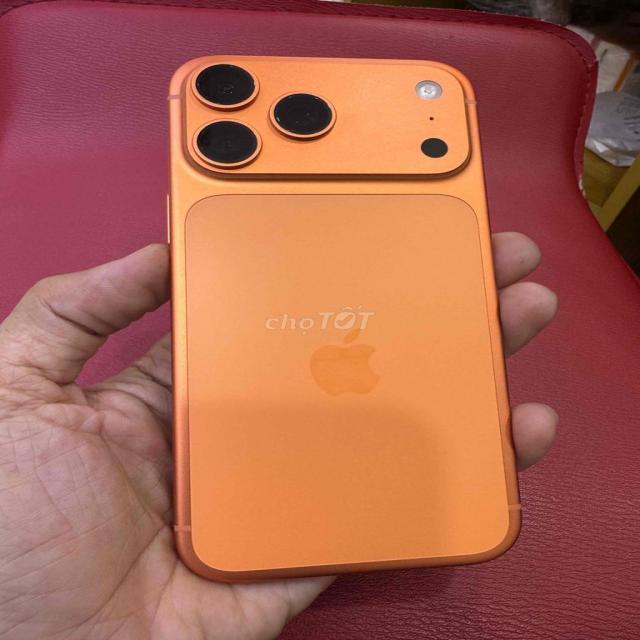gen_17: (151, 46, 534, 581)
